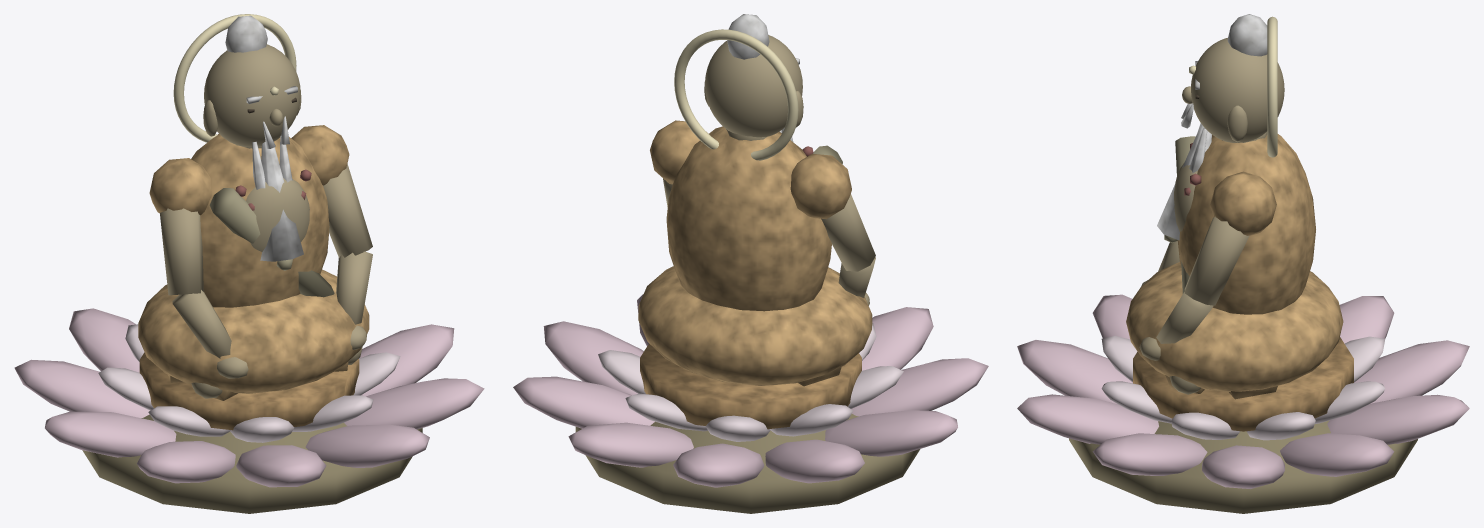
File: petapa_srimana.obj
3 views of the same model, side by side, from view 1: azimuth 30°, elevation 25°; view 2: azimuth 150°, elevation 25°; view 3: azimuth 270°, elevation 25° (orthographic).
Visible parts, largest first — view 1: PetapaSrimana; view 2: PetapaSrimana; view 3: PetapaSrimana.
Part boxes in pixels (x1=…): PetapaSrimana: x1=14, y1=14, x2=484, y2=513; PetapaSrimana: x1=513, y1=14, x2=988, y2=513; PetapaSrimana: x1=1017, y1=14, x2=1469, y2=513.
Bounding box in the file's own units: 1.64 × 1.61 × 1.56.
1 material, 1 textured.
